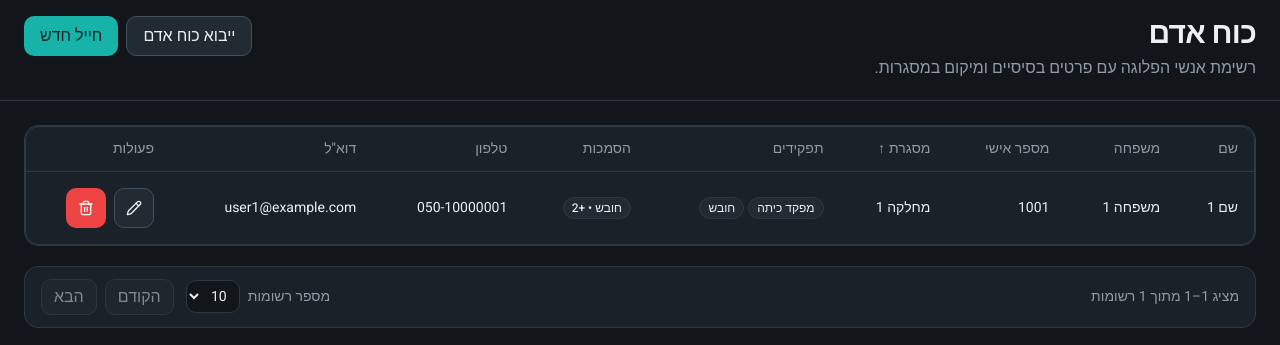
Test: UsersPage › renders role names and a compact qualification summary that opens the full list in a popover
expect the text "מפקד כיתה" is shown: met, box [748,196,824,218]
expect the text "חובש" is shown: met, box [700,196,744,218]
Click the button "חובש • +2": (597, 208) [563,196,631,218]
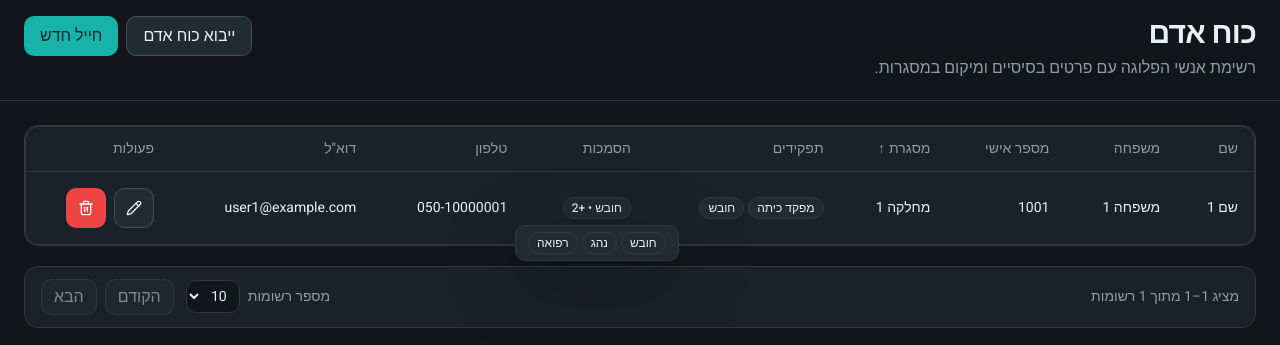
expect the text "חובש" next to "מפקד כיתה" is shown: met, box [708,198,735,216]
expect the text "נהג" is shown: met, box [582,232,617,254]
expect the text "רפואה" is shown: met, box [528,232,578,254]
